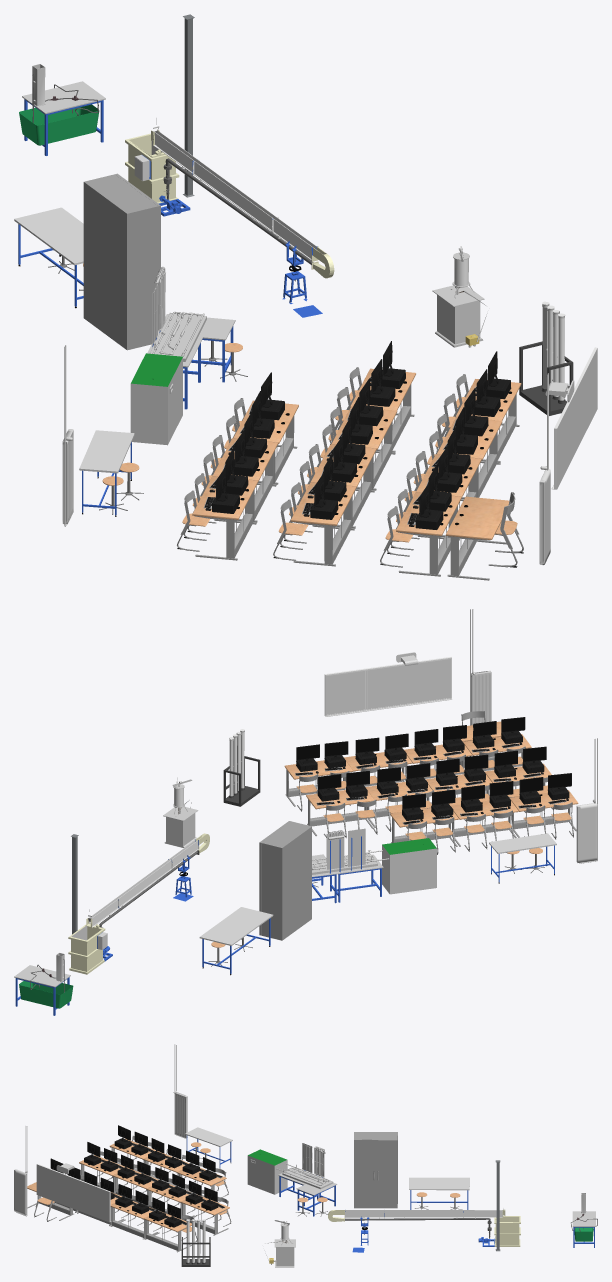
Rendered from fur_arj_015_sized.glb.
The picture shows the model from 3 angles, top to bottom: view 1: azimuth 30°, elevation 25°; view 2: azimuth 150°, elevation 25°; view 3: azimuth 270°, elevation 25°; orthographic projection. The views are drawn at different scales.
Visible parts, largest first — view 1: Etagère2, Tubes_, BancMecaFluide_LOD0, Siphon_LOD0, Pompe_, 4_tubes_, table_Meca_Flu2, tables_Bleues_TP14, Tableau, tables_Bleues_TP3, table_Meca_Flu6, table_Meca_Flu10 (+14 smaller); view 2: Tubes_, Etagère2, BancMecaFluide_LOD0, Tableau, Siphon_LOD0, tables_Bleues_TP14, Tableau2, 4_tubes_, Radiateur_9, Pompe_, Radiateur_8, tables_Bleues_TP3 (+9 smaller); view 3: Etagère2, Tubes_, BancMecaFluide_LOD0, Tableau, tables_Bleues_TP14, 4_tubes_, Siphon_LOD0, Tableau2, Pompe_, Radiateur_8, Radiateur_9, table_Meca_Flu5 (+11 smaller).
Part boxes in pixels (x1,y1,x2,y2): Etagère2: [83, 173, 160, 350]; Tubes_: [130, 266, 235, 445]; BancMecaFluide_LOD0: [125, 118, 334, 317]; Siphon_LOD0: [19, 64, 105, 155]; Pompe_: [432, 246, 487, 347]; 4_tubes_: [519, 301, 573, 415]; table_Meca_Flu2: [446, 496, 509, 580]; tables_Bleues_TP14: [14, 207, 83, 308]; Tableau: [551, 372, 584, 489]; tables_Bleues_TP3: [79, 430, 134, 516]; table_Meca_Flu6: [290, 482, 356, 566]; table_Meca_Flu10: [192, 476, 258, 560]; Tubes_: [312, 828, 436, 903]; Etagère2: [259, 821, 311, 940]; BancMecaFluide_LOD0: [68, 833, 209, 974]; Tableau: [364, 657, 452, 711]; Siphon_LOD0: [14, 952, 73, 1015]; tables_Bleues_TP14: [199, 907, 273, 975]; Tableau2: [324, 669, 367, 716]; 4_tubes_: [223, 729, 260, 806]; Radiateur_9: [576, 738, 597, 863]; Pompe_: [163, 777, 198, 847]; Radiateur_8: [470, 609, 491, 725]; tables_Bleues_TP3: [489, 833, 556, 883]; Etagère2: [354, 1132, 397, 1208]; Tubes_: [247, 1143, 337, 1216]; BancMecaFluide_LOD0: [328, 1208, 520, 1252]; Tableau: [36, 1164, 87, 1212]; tables_Bleues_TP14: [409, 1177, 469, 1209]; 4_tubes_: [181, 1219, 210, 1266]; Siphon_LOD0: [571, 1193, 597, 1247]; Tableau2: [85, 1182, 111, 1222]; Pompe_: [264, 1220, 295, 1267]; Radiateur_8: [14, 1126, 27, 1216]; Radiateur_9: [173, 1044, 187, 1138]; table_Meca_Flu5: [143, 1211, 191, 1252].
Size of what is drawn, in the model's own units: 9.86 by 3.69 by 19.17.
Materials: 37 (3 with a texture image).
